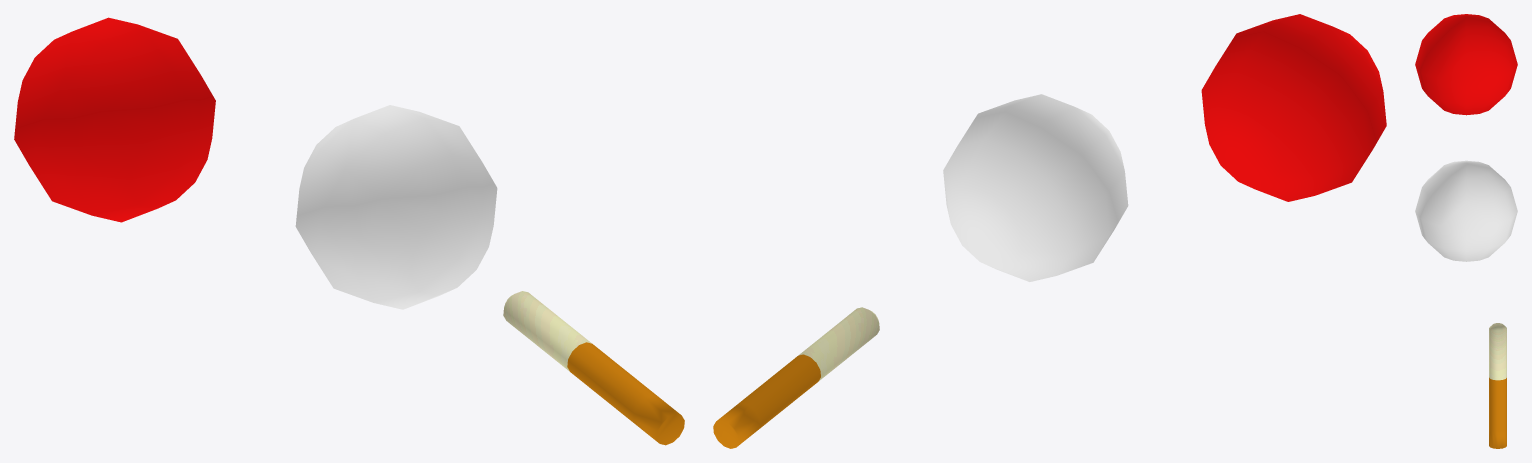
Rendered from ps2_save-icons_realpool.glb.
The picture shows the model from 3 angles, left to right: view 1: azimuth 30°, elevation 25°; view 2: azimuth 150°, elevation 25°; view 3: azimuth 270°, elevation 25°; orthographic projection. The views are drawn at different scales.
Parts seen in each view (by area): view 1: bil1.ico; view 2: bil1.ico; view 3: bil1.ico.
Part boxes in pixels (x1,y1,x2,y2): bil1.ico: (14,17,684,445); bil1.ico: (713,14,1386,448); bil1.ico: (1415,14,1517,448).
Size of the model in its own units: 3.66 by 2.96 by 0.9531.
1 material, 1 textured.
